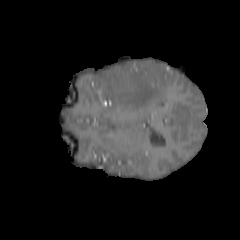glioma: (93, 60, 167, 111)
